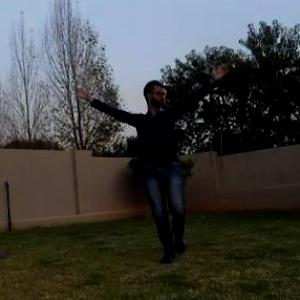takeoff: (78, 63, 232, 257)
